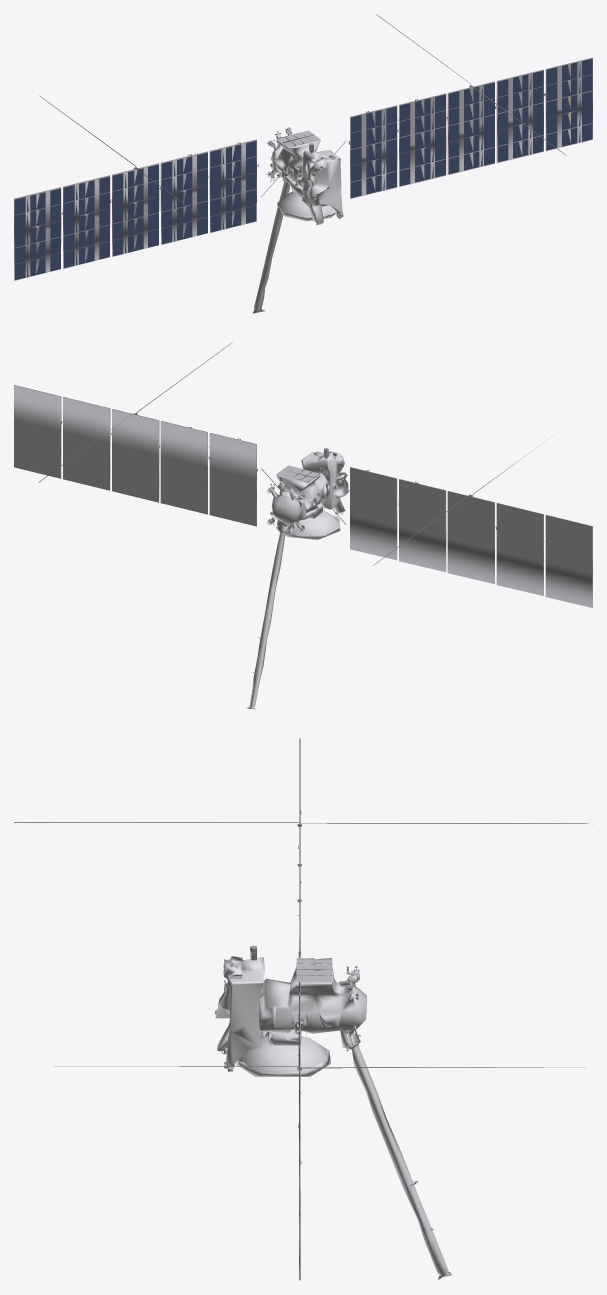
The model's file is europa-clipper-craft.glb.
The picture shows the model from 3 angles, top to bottom: view 1: azimuth 30°, elevation 25°; view 2: azimuth 150°, elevation 25°; view 3: azimuth 270°, elevation 25°; orthographic projection. The views are drawn at different scales.
Parts seen in each view (by area): view 1: craft; view 2: craft; view 3: craft.
Part boxes in pixels (x1,y1,x2,y2): craft: (14,14,592,313); craft: (14,342,592,709); craft: (14,738,592,1280).
Size of the model in its own units: 30 by 10.98 by 17.49.
1 material, 1 textured.
